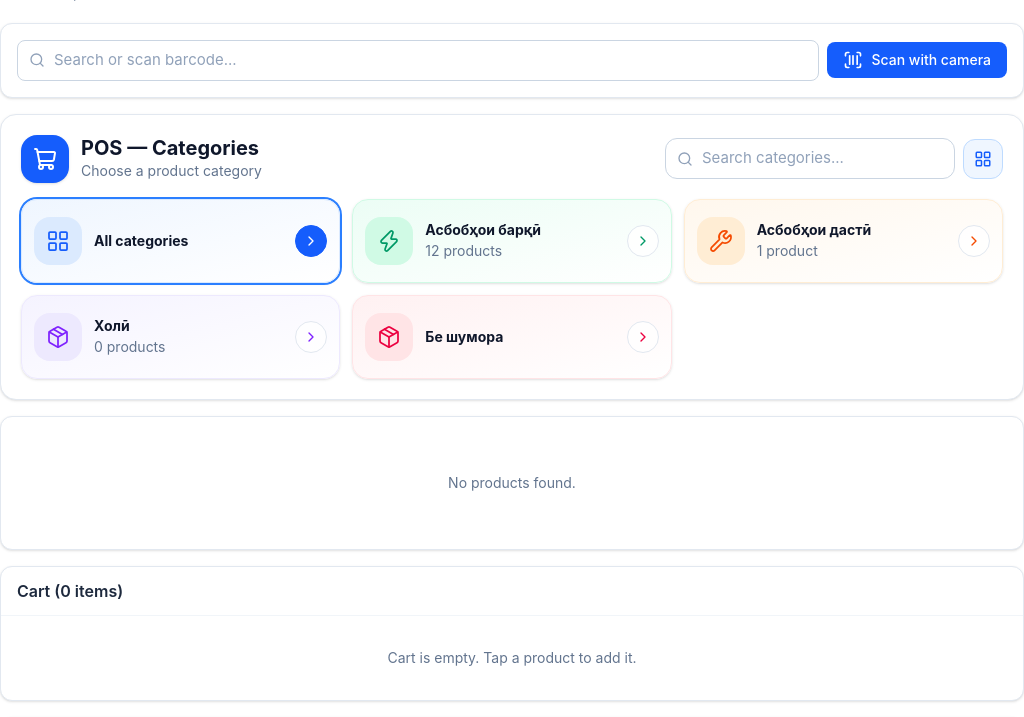
Test case: POS category cards › an empty category shows a clear message and the cart/product list still works
The image size is (1024, 717).
Click the button "Холӣ 0 products": {"x": 58, "y": 336} x1=21 y1=294 x2=340 y2=378
(page scrolled)
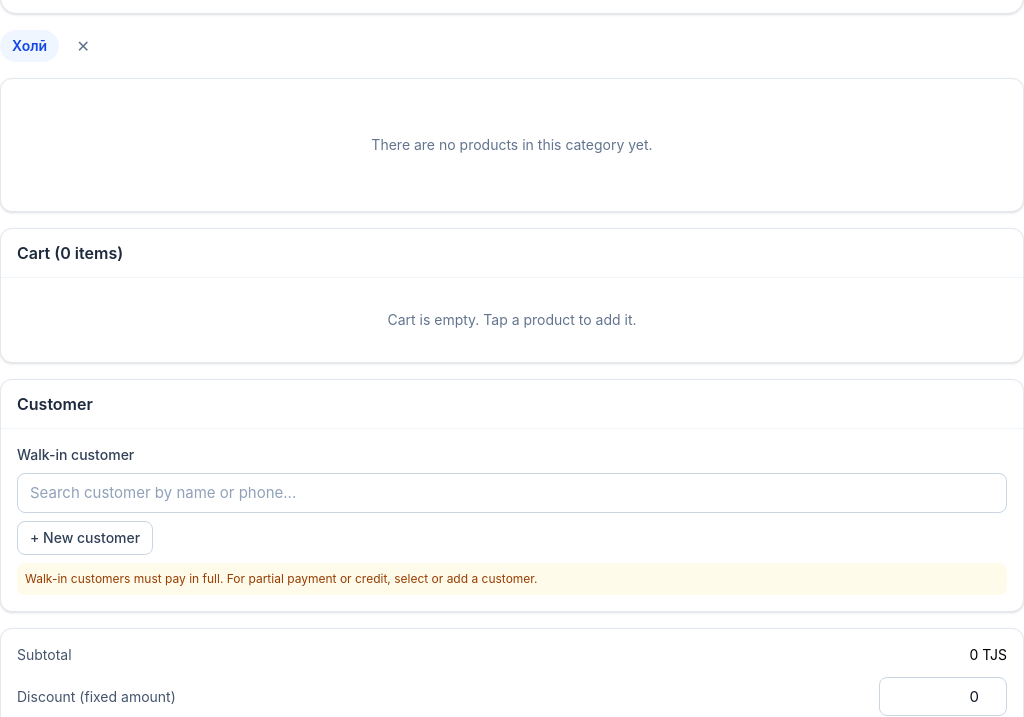
Now the text "There are no products in this category yet." is shown, box x1=371 y1=136 x2=653 y2=152
